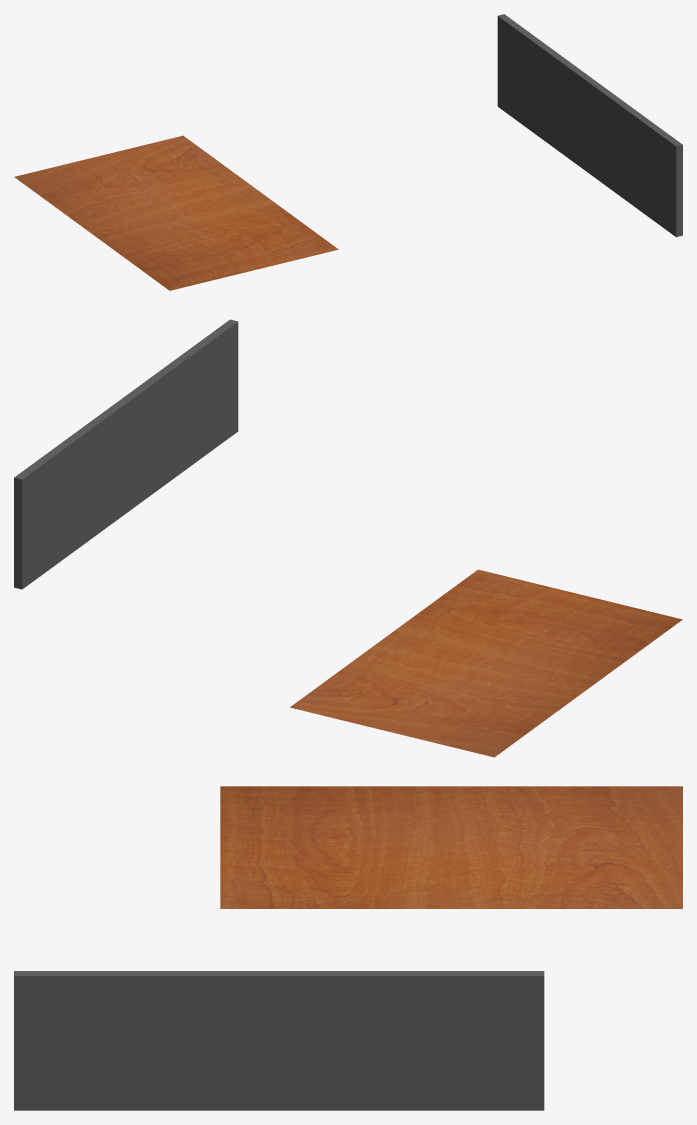
Rendered from theroomv1_1.gltf.
The picture shows the model from 3 angles, top to bottom: view 1: azimuth 30°, elevation 25°; view 2: azimuth 150°, elevation 25°; view 3: azimuth 270°, elevation 25°; orthographic projection. The views are drawn at different scales.
Visible parts, largest first — view 1: Plane.001, Cube.026; view 2: Plane.001, Cube.026; view 3: Cube.026, Plane.001.
Boxes of the visible parts, x1=… form: Plane.001: x1=14, y1=135, x2=338, y2=290; Cube.026: x1=497, y1=14, x2=682, y2=237; Plane.001: x1=290, y1=569, x2=682, y2=757; Cube.026: x1=14, y1=319, x2=238, y2=589; Cube.026: x1=14, y1=971, x2=544, y2=1110; Plane.001: x1=220, y1=786, x2=682, y2=908.
Size of the model in its own units: 112 by 21.82 by 98.13.
Materials: 2 (1 with a texture image).
